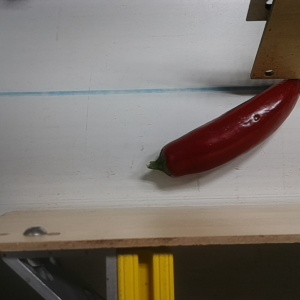Cut Point: (151, 143, 184, 178)
